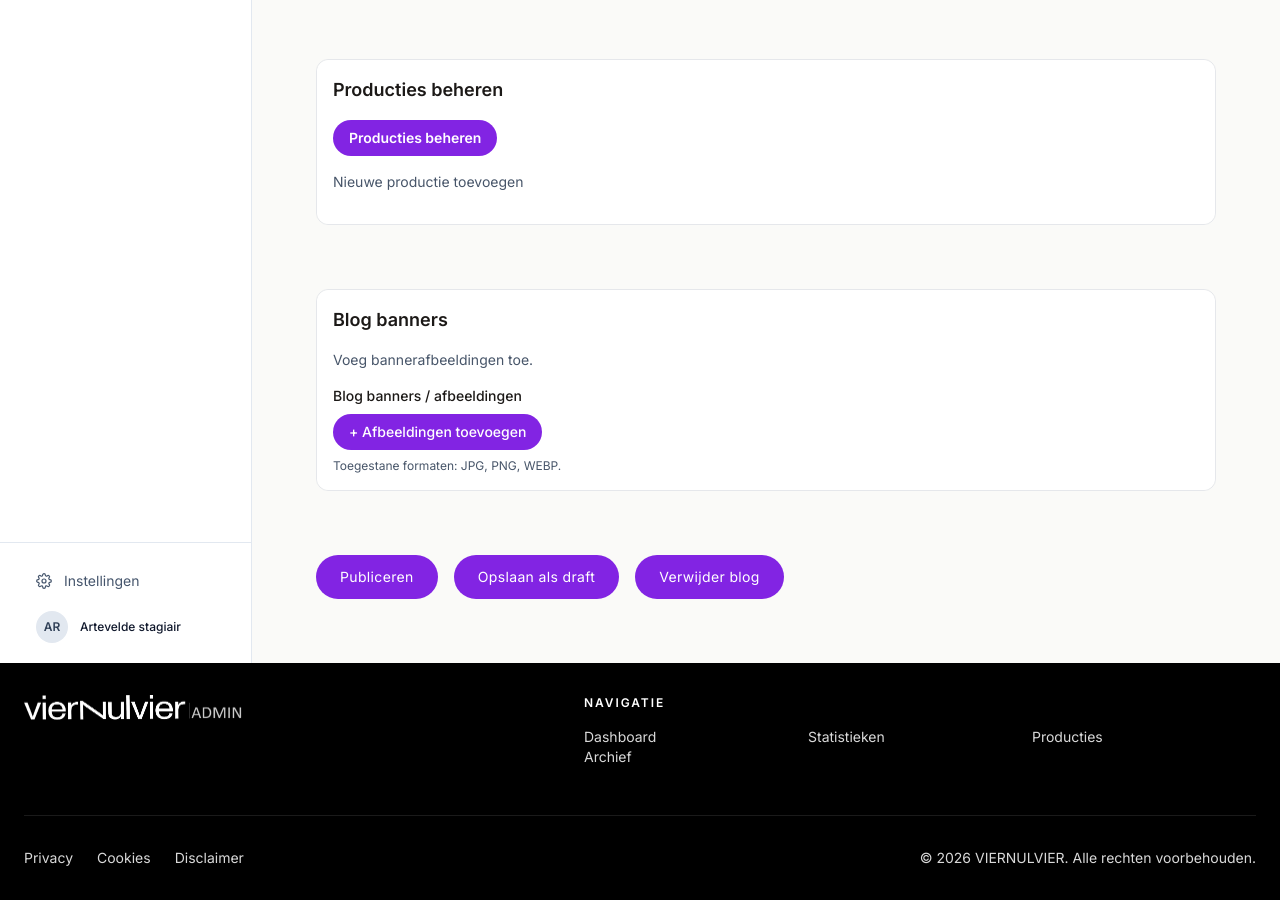
Test: CreateBlogPage › shows a delete error when deleting fails with an unknown error
(page scrolled)
Click the button "Verwijder blog" at [709, 577], box [635,555,784,599]
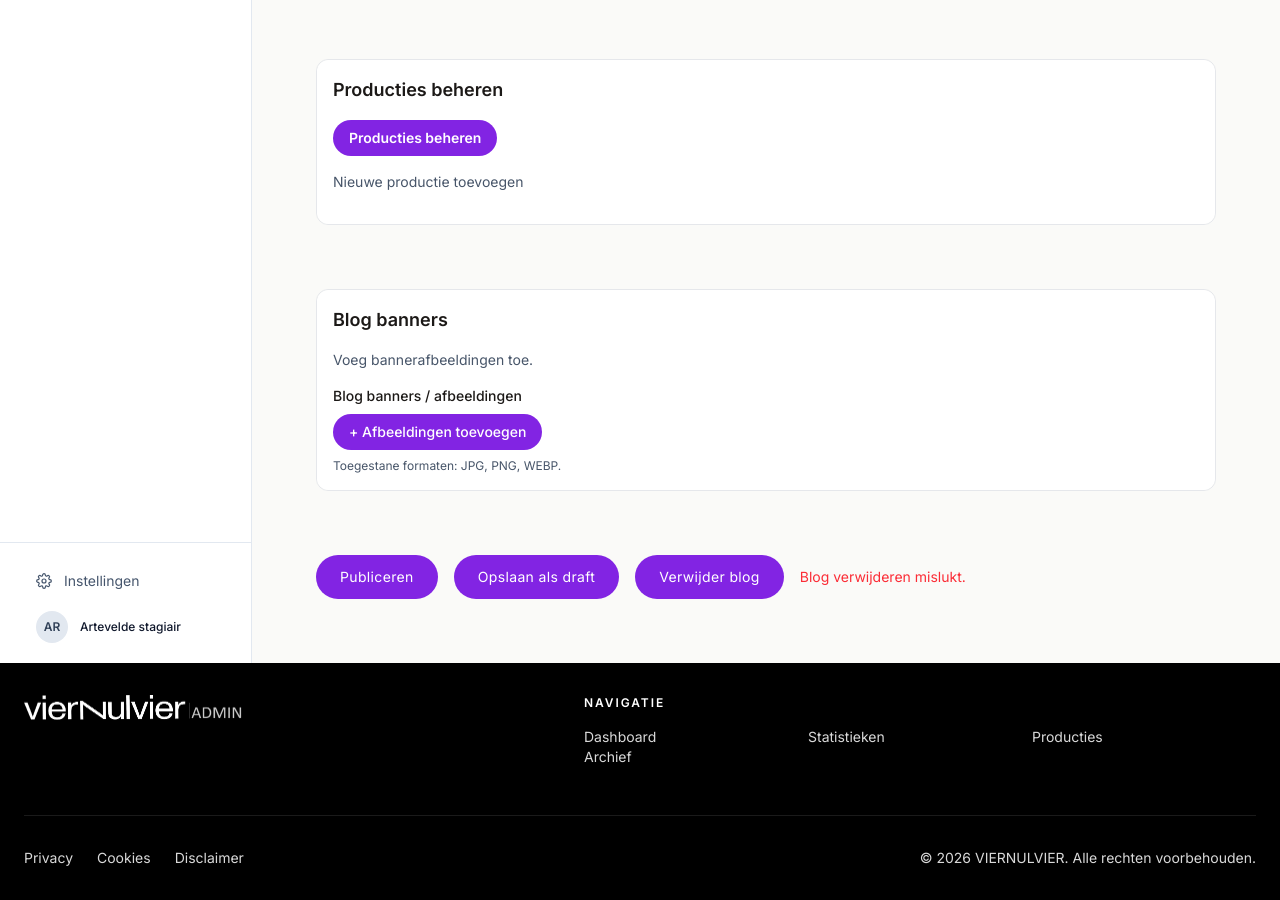
Expected: the text "Blog verwijderen mislukt." is shown, [800,567,966,587]
